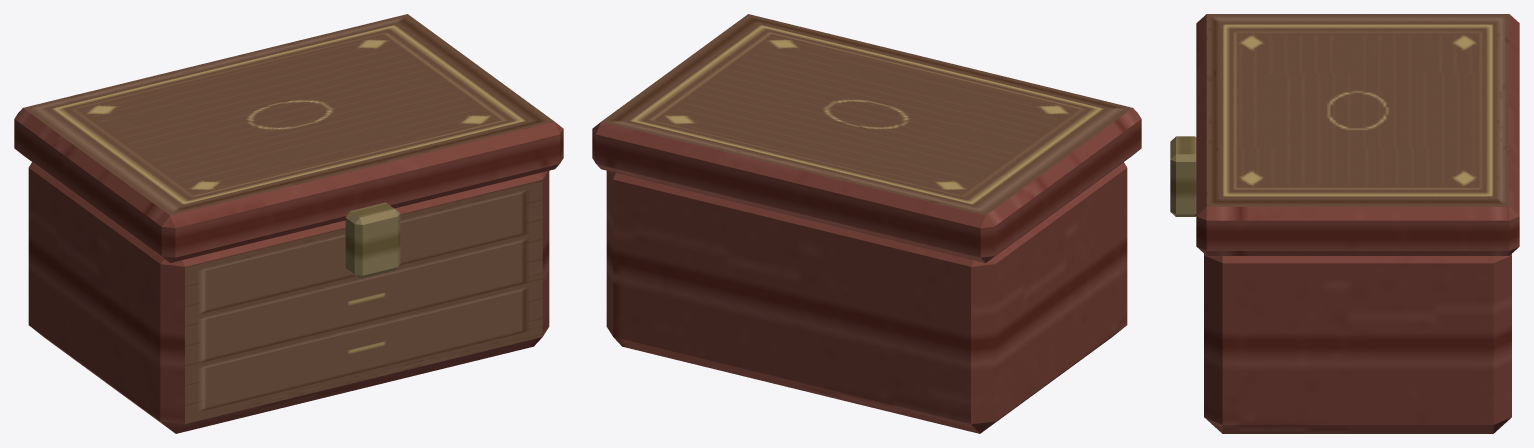
The model's file is MD_127_JewelleryBox.fbx.
3 views of the same model, side by side, from view 1: azimuth 30°, elevation 25°; view 2: azimuth 150°, elevation 25°; view 3: azimuth 270°, elevation 25° (orthographic). The views are drawn at different scales.
Parts seen in each view (by area): view 1: MD_127_JewelleryBox_jewellery_box, MD_127_JewelleryBox_hinged_lid, MD_127_JewelleryBox_box_latch; view 2: MD_127_JewelleryBox_jewellery_box, MD_127_JewelleryBox_hinged_lid; view 3: MD_127_JewelleryBox_hinged_lid, MD_127_JewelleryBox_jewellery_box, MD_127_JewelleryBox_box_latch.
Part boxes in pixels (<box>): MD_127_JewelleryBox_jewellery_box: <box>28,162,549,433</box>; MD_127_JewelleryBox_hinged_lid: <box>14,14,563,262</box>; MD_127_JewelleryBox_box_latch: <box>345,202,400,278</box>; MD_127_JewelleryBox_jewellery_box: <box>606,162,1127,433</box>; MD_127_JewelleryBox_hinged_lid: <box>592,14,1141,262</box>; MD_127_JewelleryBox_hinged_lid: <box>1196,14,1519,255</box>; MD_127_JewelleryBox_jewellery_box: <box>1204,254,1511,433</box>; MD_127_JewelleryBox_box_latch: <box>1170,136,1196,216</box>.
Size of the model in its own units: 0.31 by 0.1675 by 0.227.
Materials: 3 (3 with a texture image).
